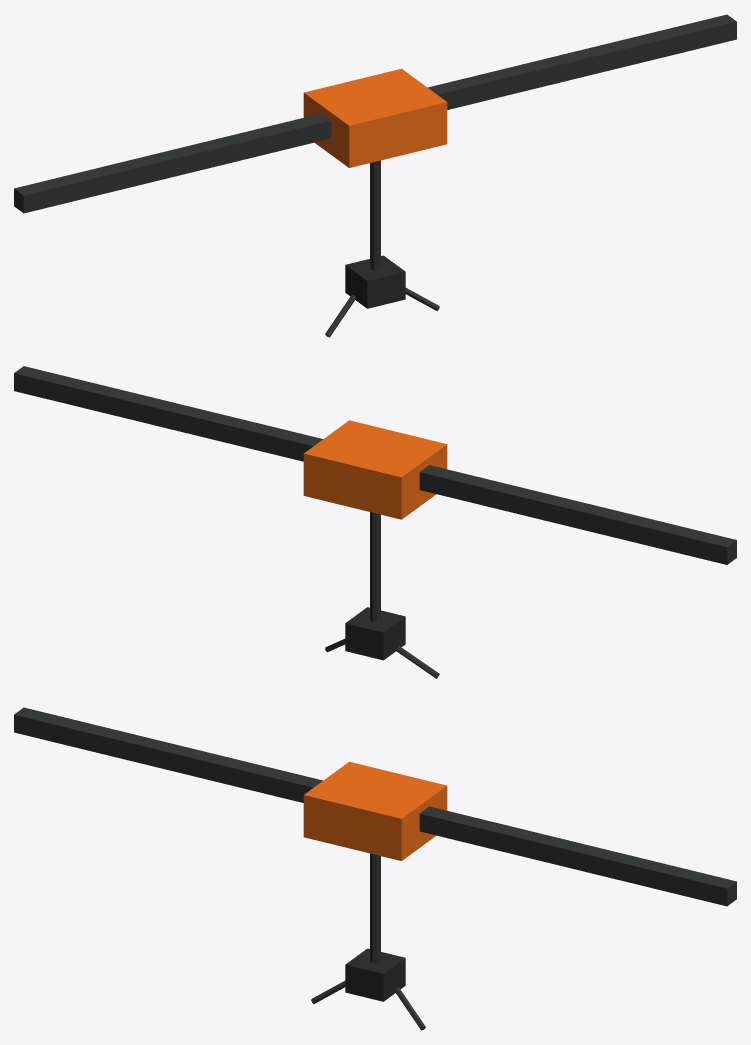
File: Bastion_WarFactoryCMV2_GantryTrolley.obj
3 renders of one model, top to bottom at view 1: azimuth 30°, elevation 25°; view 2: azimuth 150°, elevation 25°; view 3: azimuth 330°, elevation 25°, orthographic.
Parts seen in each view (by area): view 1: gantry_crossbeam_1, gantry_trolley_body_0, gantry_hook_block_3, gantry_hoist_cable_2; view 2: gantry_crossbeam_1, gantry_trolley_body_0, gantry_hook_block_3, gantry_hoist_cable_2; view 3: gantry_crossbeam_1, gantry_trolley_body_0, gantry_hook_block_3, gantry_hoist_cable_2.
Part boxes in pixels (left/top/right/bottom): gantry_crossbeam_1: left=14, top=14, right=736, bottom=213; gantry_trolley_body_0: left=303, top=68, right=447, bottom=167; gantry_hook_block_3: left=345, top=255, right=405, bottom=308; gantry_hoist_cable_2: left=370, top=160, right=380, bottom=270; gantry_crossbeam_1: left=14, top=366, right=736, bottom=564; gantry_trolley_body_0: left=303, top=420, right=447, bottom=519; gantry_hook_block_3: left=345, top=607, right=405, bottom=660; gantry_hoist_cable_2: left=370, top=512, right=380, bottom=621; gantry_crossbeam_1: left=14, top=707, right=736, bottom=906; gantry_trolley_body_0: left=303, top=761, right=447, bottom=860; gantry_hook_block_3: left=345, top=948, right=405, bottom=1001; gantry_hoist_cable_2: left=370, top=853, right=380, bottom=963.
Bounding box in the file's own units: 6.7 × 1.99 × 0.74.
3 materials, 3 textured.
